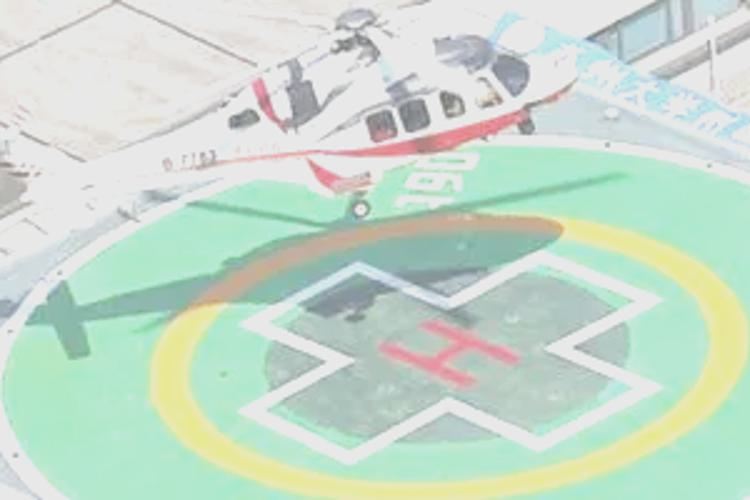Apron: (139, 200, 748, 500)
